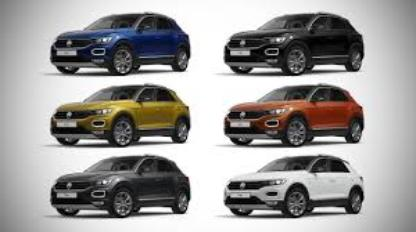car: (47, 154, 204, 230), (218, 154, 380, 226), (216, 10, 382, 80), (46, 7, 197, 78), (220, 85, 380, 151), (45, 83, 203, 149)
